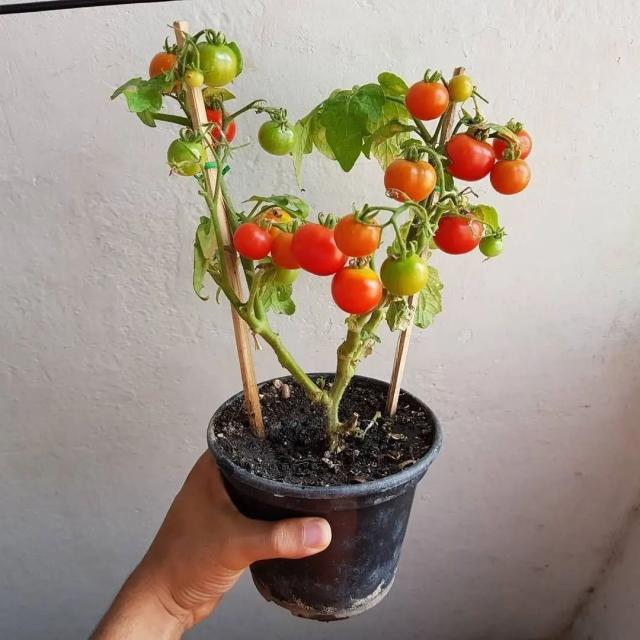level 1: (482, 232, 506, 260)
level 2: (188, 42, 238, 90), (382, 254, 430, 296), (166, 140, 211, 176), (258, 121, 297, 157), (183, 68, 204, 86)
level 3: (448, 77, 474, 102)
level 4: (260, 208, 307, 253)
level 5: (333, 266, 383, 316), (385, 156, 437, 203), (272, 225, 318, 269), (337, 215, 384, 256), (150, 54, 197, 92)
level 6: (290, 224, 351, 276), (436, 209, 482, 255), (447, 136, 495, 180), (404, 79, 448, 122), (192, 106, 236, 148), (496, 125, 535, 164), (234, 223, 272, 261)
